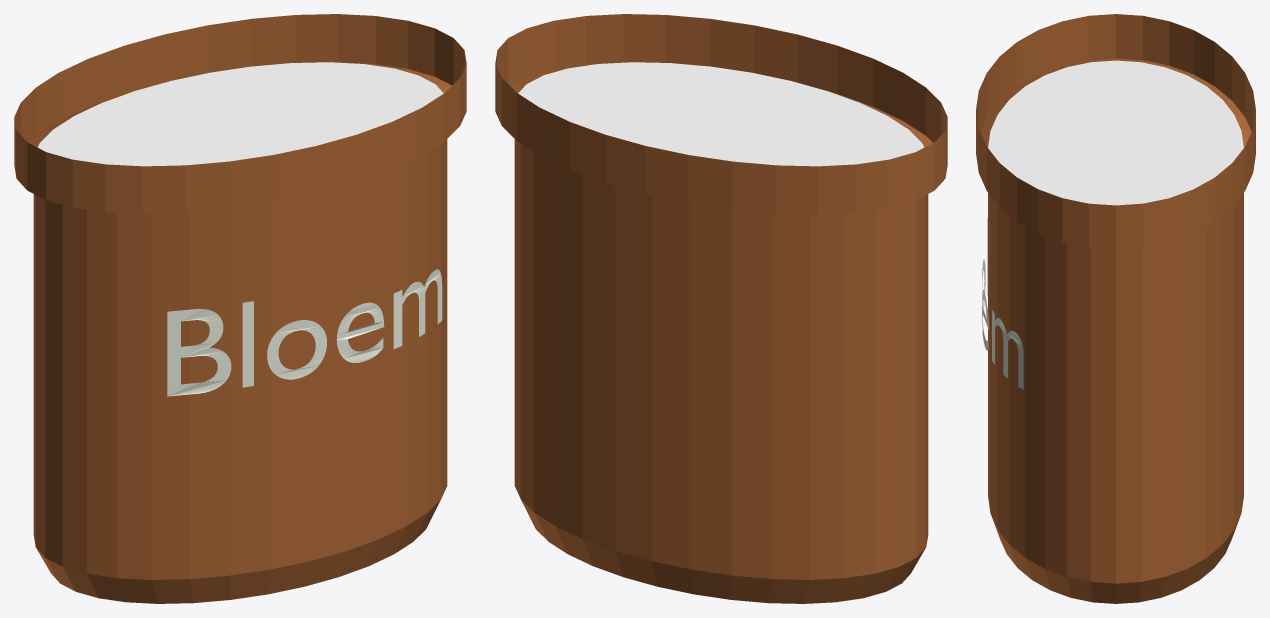
The model's file is bloem.dae.
The picture shows the model from 3 angles, left to right: view 1: azimuth 30°, elevation 25°; view 2: azimuth 150°, elevation 25°; view 3: azimuth 270°, elevation 25°; orthographic projection. The views are drawn at different scales.
Visible parts, largest first — view 1: Cylinder, bloem; view 2: Cylinder; view 3: Cylinder, bloem.
Part boxes in pixels (left/top/right/bottom): Cylinder: left=14, top=14, right=466, bottom=603; bloem: left=167, top=269, right=442, bottom=396; Cylinder: left=495, top=14, right=947, bottom=603; Cylinder: left=976, top=14, right=1255, bottom=603; bloem: left=982, top=218, right=1023, bottom=389.
Size of the model in its own units: 1.24 by 0.7658 by 1.25.
